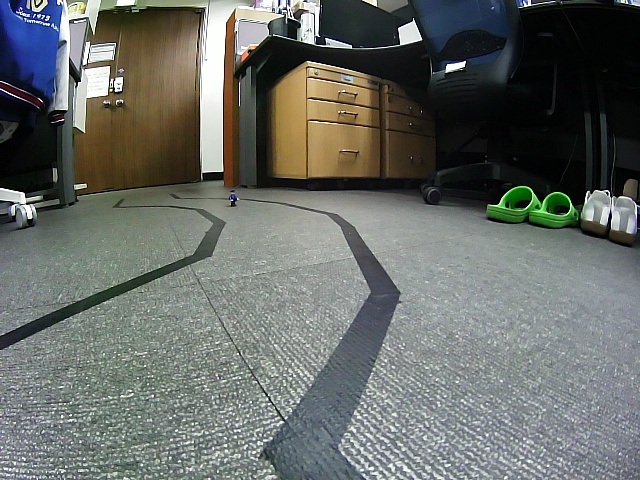person: (229, 189, 239, 208)
